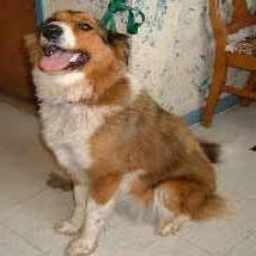dog: (26, 9, 227, 256)
